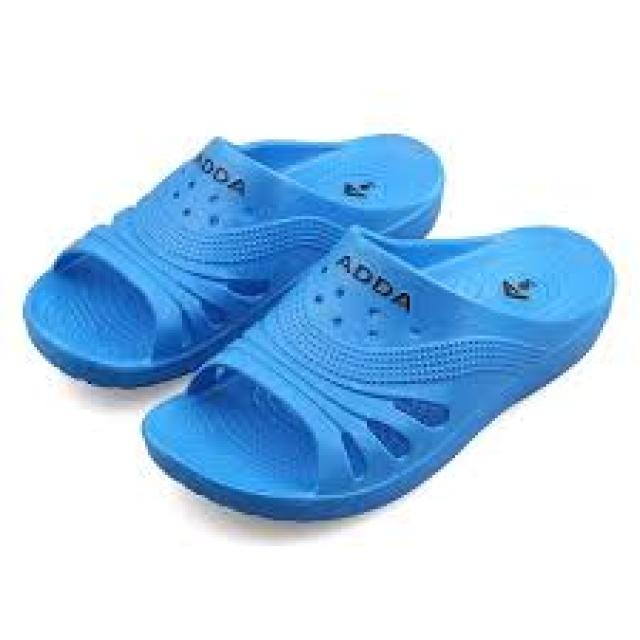shoe: (18, 132, 622, 526), (22, 128, 445, 383)
